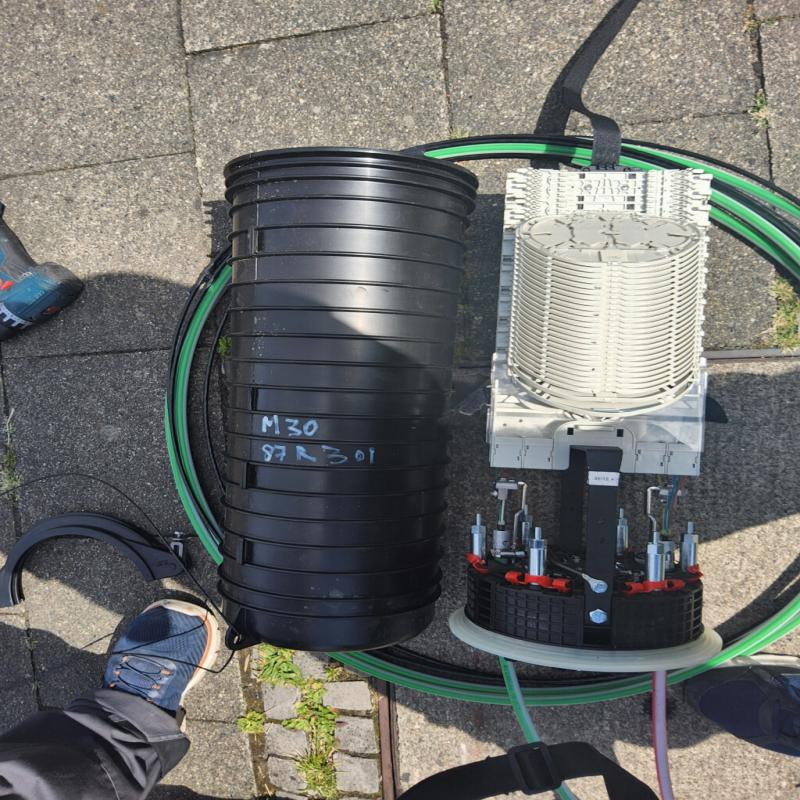NT-Muffen: (440, 170, 729, 680), (208, 144, 475, 653)
